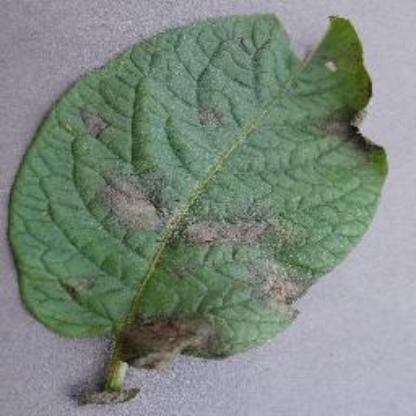Late-Blight: (8, 7, 390, 403)
